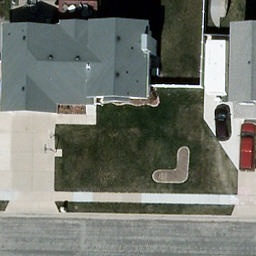camping car: (206, 40, 227, 94)
car: (213, 107, 234, 142)
